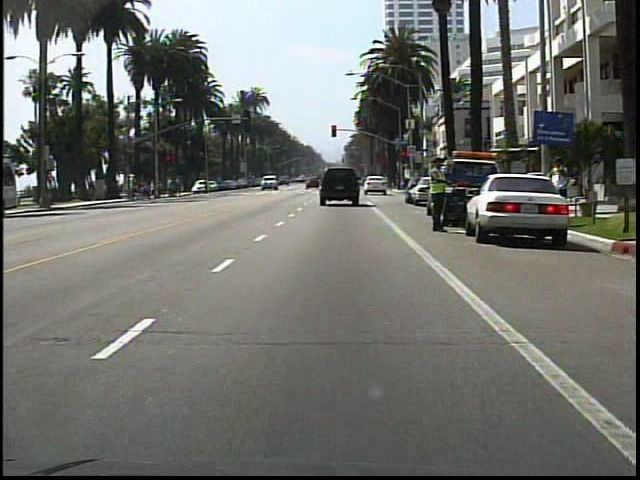person: (546, 151, 576, 237), (426, 151, 454, 236), (194, 173, 214, 202)
